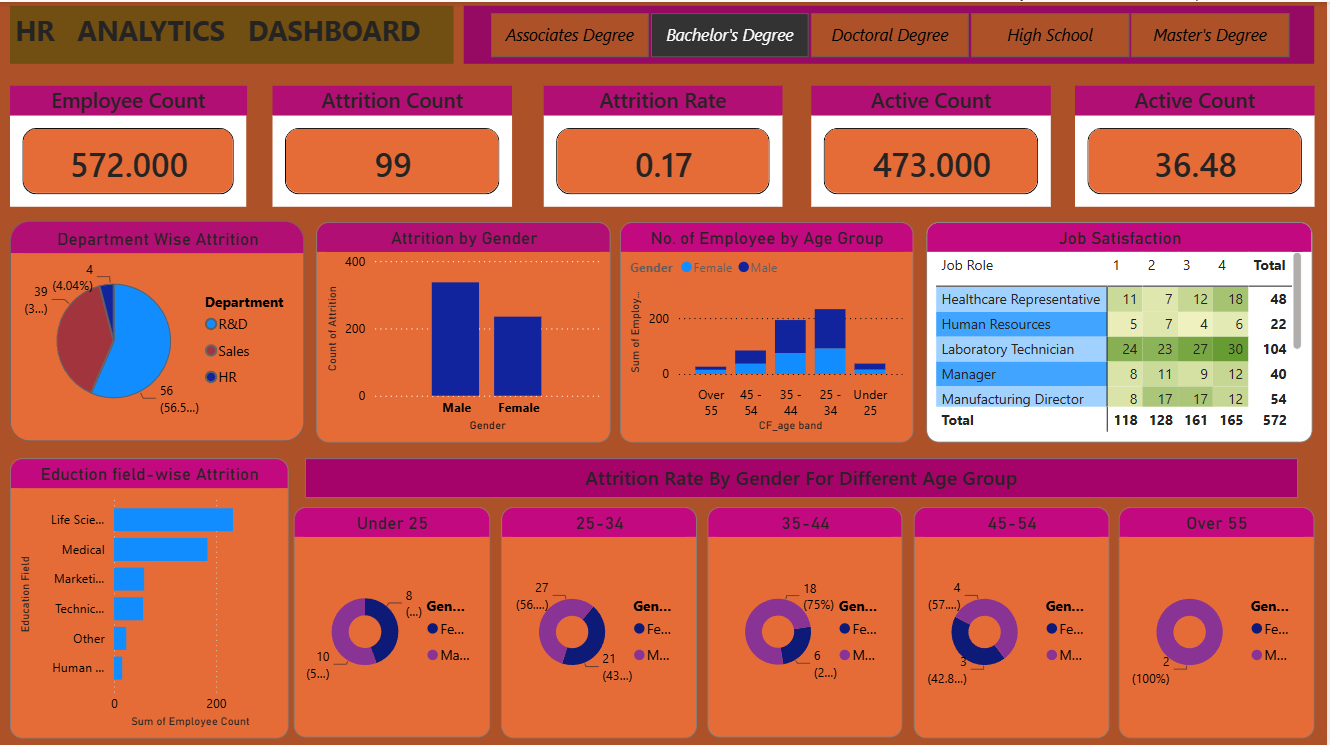

The page's visual inventory and layout, read from the dashboard file:
{"tool":"powerbi","page":{"name":"Page 1","canvas":[1280,720],"ordinal":0},"visuals":[{"type":"cardVisual","title":"Employee Count","fields":{"Data":["Sum(HR data.Employee Count)"]},"box":[10,81.4,228.6,117.1],"z":0},{"type":"cardVisual","title":"Attrition Count","fields":{"Data":["Sum(HR data.Attrition count)"]},"box":[262.9,81.4,231.4,117.1],"z":1000},{"type":"cardVisual","title":"Active Count","fields":{"Data":["HR data.Active Count"]},"box":[782.9,81.4,231.4,117.1],"z":2000},{"type":"cardVisual","title":"Attrition Rate","fields":{"Data":["HR data.Attrition Rate"]},"box":[524.3,81.4,230,117.1],"z":3000},{"type":"cardVisual","title":"Active Count","fields":{"Data":["Avg(HR data.Age)"]},"box":[1037.1,81.4,231.4,117.1],"z":4000},{"type":"pieChart","title":"Department Wise Attrition ","fields":{"Category":["HR data.Department"],"Y":["Sum(HR data.Attrition count)"]},"box":[10,211.4,284.3,212.9],"z":5000},{"type":"clusteredColumnChart","title":"Attrition by Gender","fields":{"Y":["CountNonNull(HR data.Attrition)"],"Category":["HR data.Gender"]},"box":[305.7,212.9,284.3,212.9],"z":6000},{"type":"columnChart","title":"No. of Employee by Age Group","fields":{"Category":["HR data.CF_age band"],"Y":["Sum(HR data.Employee Count)"],"Series":["HR data.Gender"]},"box":[598.6,212.9,282.9,212.9],"z":7000},{"type":"pivotTable","title":"Job Satisfaction","fields":{"Rows":["HR data.Job Role"],"Columns":["HR data.Job Satisfaction"],"Values":["Sum(HR data.Employee Count)"]},"box":[894.3,212.9,372.9,212.9],"z":8000},{"type":"barChart","title":"Eduction field-wise Attrition","fields":{"Category":["HR data.Education Field"],"Y":["Sum(HR data.Employee Count)"]},"box":[10,440,268.6,270],"z":9000},{"type":"donutChart","title":"Under 25","fields":{"Category":["HR data.Gender"],"Y":["Sum(HR data.Attrition count)"],"Series":["HR data.CF_age band"]},"box":[284,487.1,189.4,222.3],"z":10000},{"type":"donutChart","title":"25-34","fields":{"Category":["HR data.Gender"],"Y":["Sum(HR data.Attrition count)"],"Series":["HR data.CF_age band"]},"box":[484.3,487.1,188.6,222.9],"z":11000},{"type":"donutChart","title":" 35-44","fields":{"Category":["HR data.Gender"],"Y":["Sum(HR data.Attrition count)"],"Series":["HR data.CF_age band"]},"box":[683.4,487.1,188,222.3],"z":12000},{"type":"donutChart","title":"45-54","fields":{"Category":["HR data.Gender"],"Y":["Sum(HR data.Attrition count)"],"Series":["HR data.CF_age band"]},"box":[881.4,487.1,188.6,222.9],"z":13000},{"type":"donutChart","title":"Over 55","fields":{"Category":["HR data.Gender"],"Y":["Sum(HR data.Attrition count)"],"Series":["HR data.CF_age band"]},"box":[1080,487.1,188.6,222.9],"z":14000},{"type":"textbox","box":[294.3,440,958.6,38.6],"z":15000},{"type":"textbox","box":[9.6,4.1,428.1,56.3],"z":16000},{"type":"slicer","fields":{"Values":["HR data.Education"]},"box":[447.3,4.1,820.6,56.3],"z":17000}]}

Visuals, with their boxes in screenshot pixels (x1, y1, x2, y2), scaled from the page's 1280x720 canvas onto the 1330x745 screenshot:
"Employee Count" cardVisual: Rect(10, 84, 248, 205)
"Attrition Count" cardVisual: Rect(273, 84, 514, 205)
"Active Count" cardVisual: Rect(813, 84, 1054, 205)
"Attrition Rate" cardVisual: Rect(545, 84, 784, 205)
"Active Count" cardVisual: Rect(1078, 84, 1318, 205)
"Department Wise Attrition " pieChart: Rect(10, 219, 306, 439)
"Attrition by Gender" clusteredColumnChart: Rect(318, 220, 613, 441)
"No. of Employee by Age Group" columnChart: Rect(622, 220, 916, 441)
"Job Satisfaction" pivotTable: Rect(929, 220, 1317, 441)
"Eduction field-wise Attrition" barChart: Rect(10, 455, 289, 735)
"Under 25" donutChart: Rect(295, 504, 492, 734)
"25-34" donutChart: Rect(503, 504, 699, 735)
" 35-44" donutChart: Rect(710, 504, 905, 734)
"45-54" donutChart: Rect(916, 504, 1112, 735)
"Over 55" donutChart: Rect(1122, 504, 1318, 735)
textbox: Rect(306, 455, 1302, 495)
textbox: Rect(10, 4, 455, 62)
slicer - HR data.Education: Rect(465, 4, 1317, 62)
